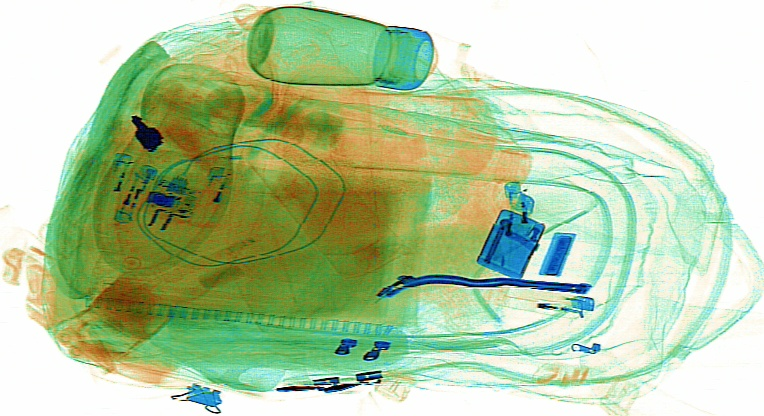lighter: (475, 206, 545, 283), (492, 285, 596, 316), (186, 163, 236, 226), (109, 163, 154, 224), (91, 149, 133, 213), (502, 178, 536, 256)
